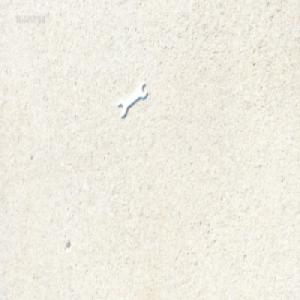Wrench: (117, 81, 148, 117)
